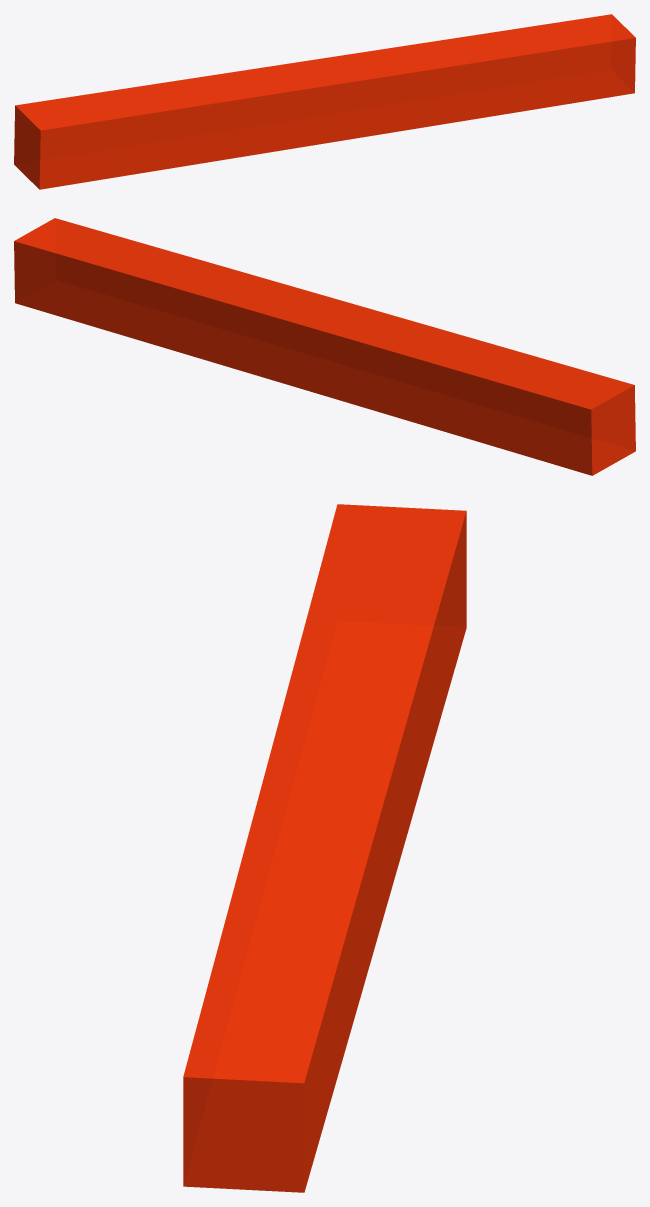
Rendered from Event_420604493_EErechit_26.fbx.
The picture shows the model from 3 angles, top to bottom: view 1: azimuth 30°, elevation 25°; view 2: azimuth 150°, elevation 25°; view 3: azimuth 270°, elevation 25°; orthographic projection. The views are drawn at different scales.
Parts seen in each view (by area): view 1: Model; view 2: Model; view 3: Model.
Part boxes in pixels (x1,y1,x2,y2): Model: (14, 14, 635, 189); Model: (14, 218, 635, 475); Model: (183, 504, 466, 1192).
Bounding box in the file's own units: 0.7755 × 0.092 × 0.1688.
